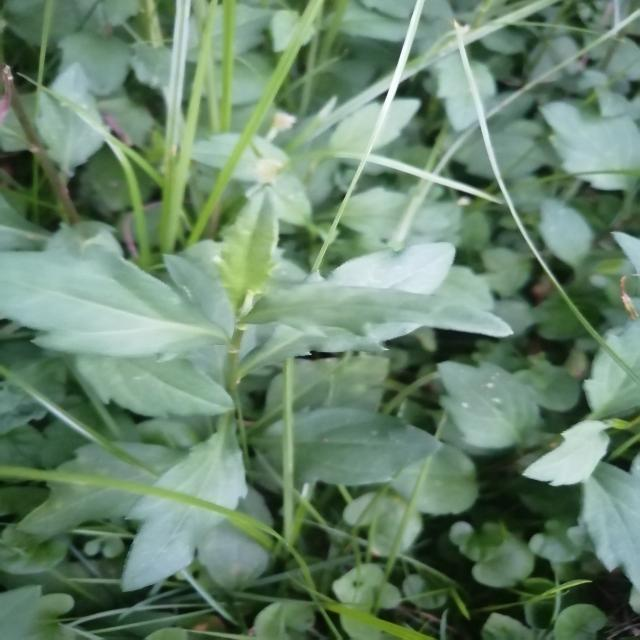Indian aster: (0, 200, 474, 520)
